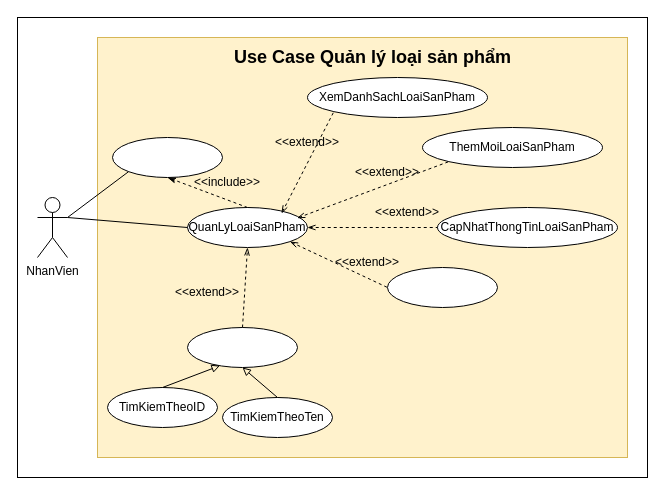
This 665x495 diagram has some shape labels left out. The shapes that lost their labels are listed below. From the top down, each one's centre as x and y in pixels, then its label:
the point at 167,157: DangNhap
the point at 442,287: XoaLoaiSanPham
the point at 242,347: TimKiem
